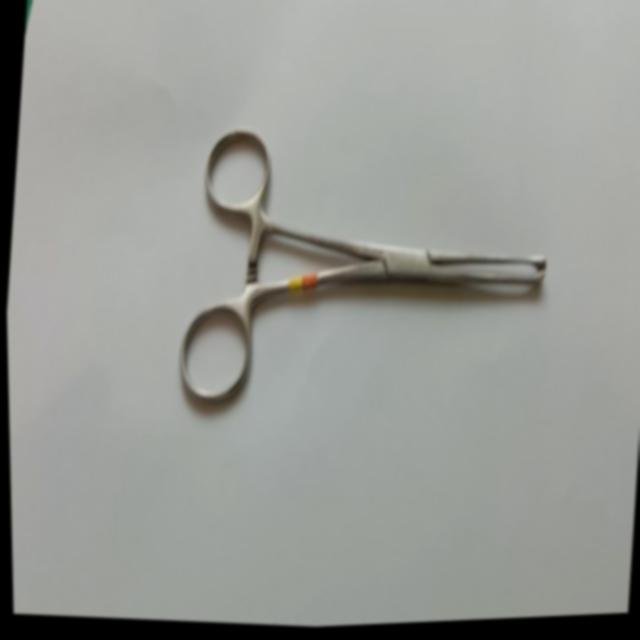AllisForcep: (167, 113, 559, 435)
